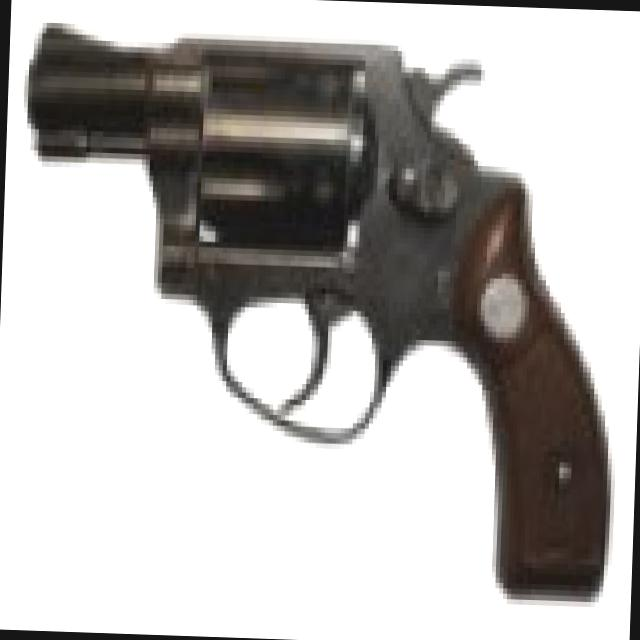handgun: (3, 16, 622, 591)
